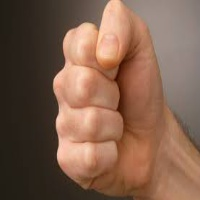ring: (65, 106, 131, 141)
